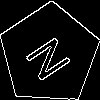N: (24, 29, 80, 84)
